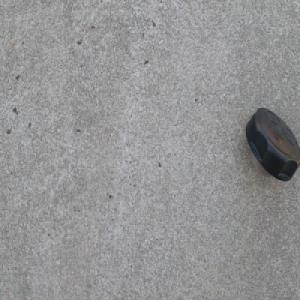FuelCap: (244, 106, 300, 182)
